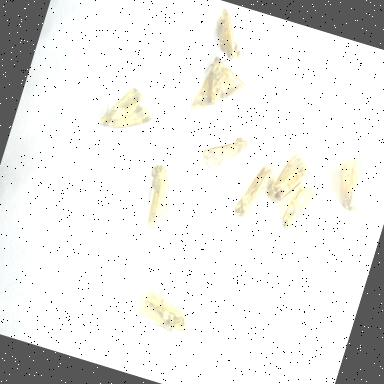abw: (185, 48, 255, 127), (226, 150, 285, 229), (261, 140, 322, 216), (94, 76, 162, 144), (130, 158, 188, 236), (324, 142, 376, 218), (130, 282, 198, 340), (274, 168, 326, 242), (190, 121, 252, 182), (203, 1, 260, 67)
